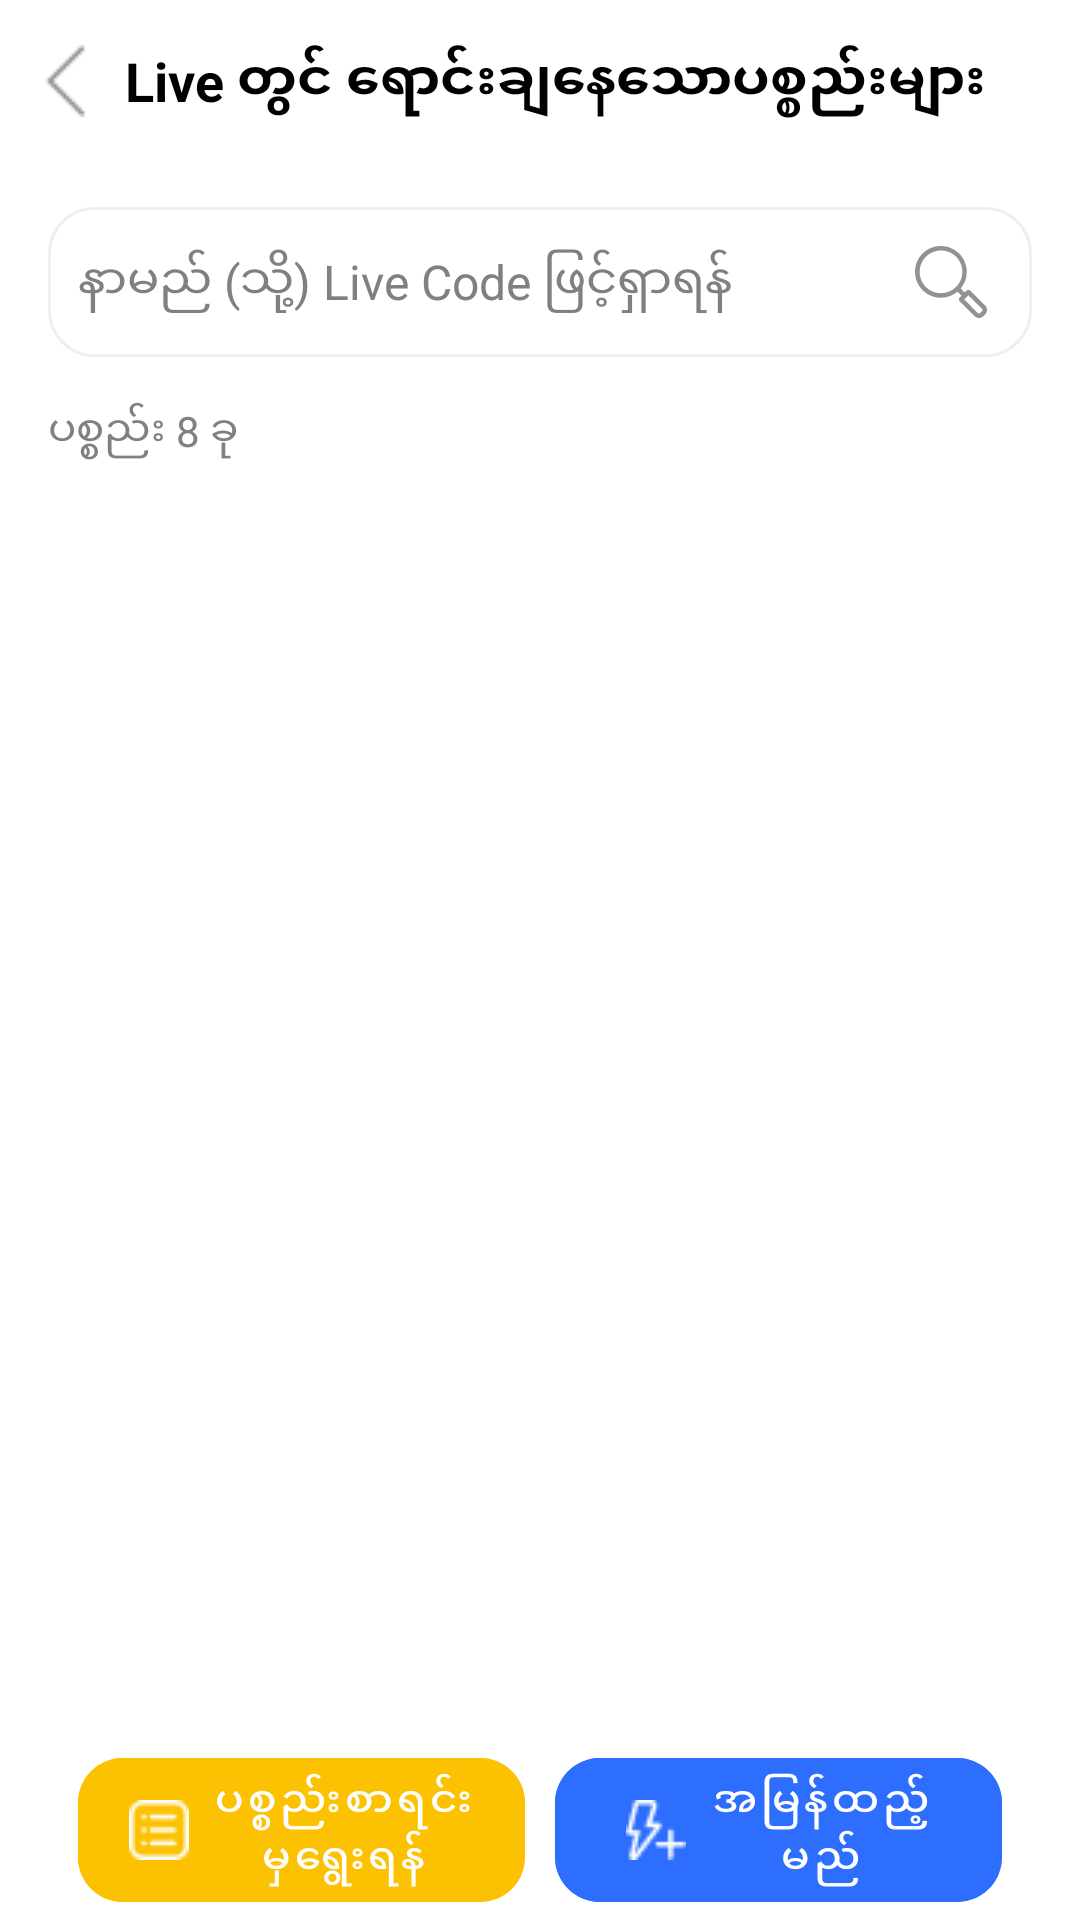

Locate icon controls on the screen. Image size 1080 × 1920, boxes as BBox(x1, y1, x2, y2).
back: BBox(47, 45, 85, 117)
search: BBox(915, 246, 987, 318)
